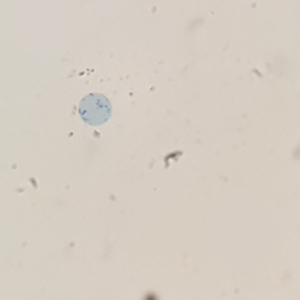aggregate reticulocyte: (77, 91, 114, 128)
